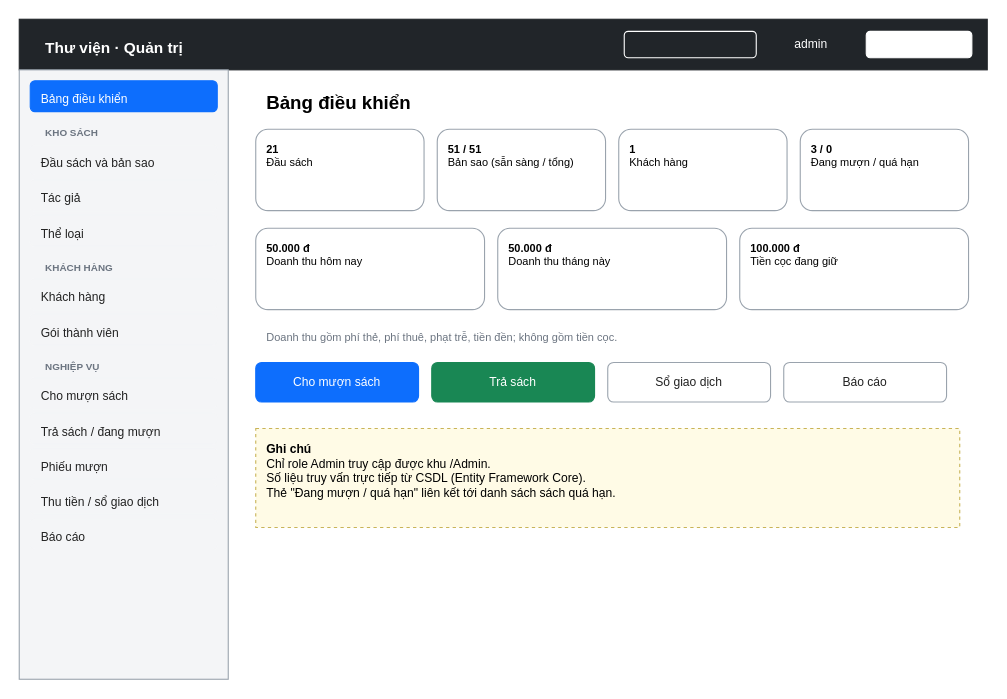
The diagram is 1007 pixels wide and 699 high, and some of its shapes have lost their labels. Each missing label, with the centre of its shape:
Trang công khai: (x=689, y=44)
Đăng xuất: (x=918, y=44)
